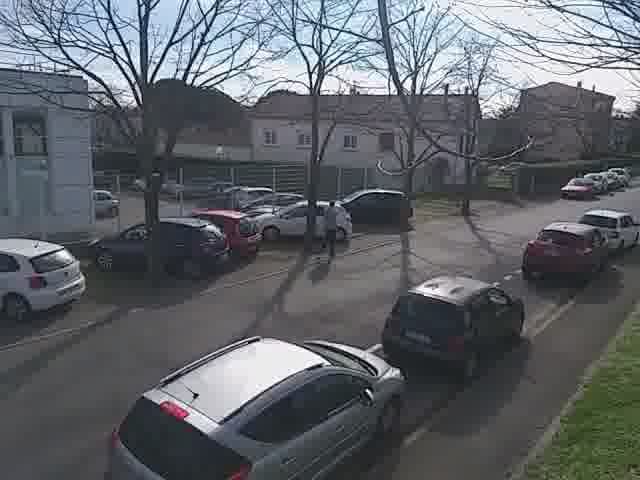persona: (313, 193, 346, 260)
